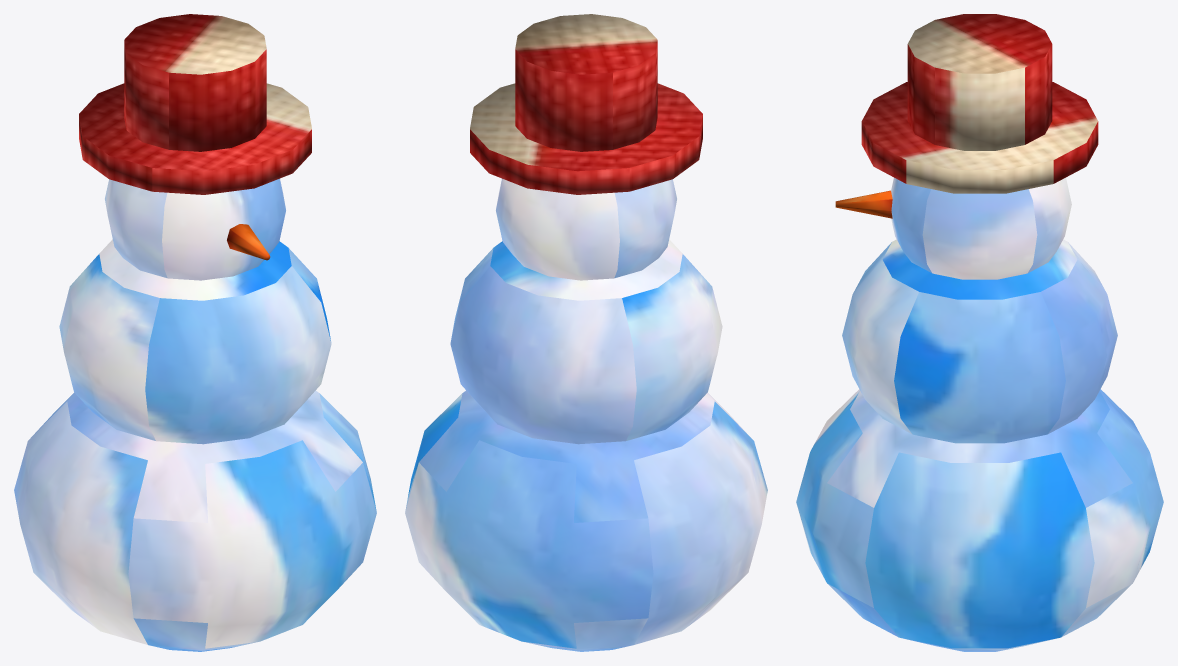
File: deco_hielo_flora.glb
The picture shows the model from 3 angles, left to right: view 1: azimuth 30°, elevation 25°; view 2: azimuth 150°, elevation 25°; view 3: azimuth 270°, elevation 25°; orthographic projection.
Parts seen in each view (by area): view 1: deco_hielo_flora; view 2: deco_hielo_flora; view 3: deco_hielo_flora.
Boxes of the visible parts, x1,y1,x2,y2 form: deco_hielo_flora: [14, 14, 376, 651]; deco_hielo_flora: [405, 14, 767, 651]; deco_hielo_flora: [796, 14, 1163, 651].
Size of the model in its own units: 0.5515 by 1 by 0.5657.
Materials: 3 (3 with a texture image).
